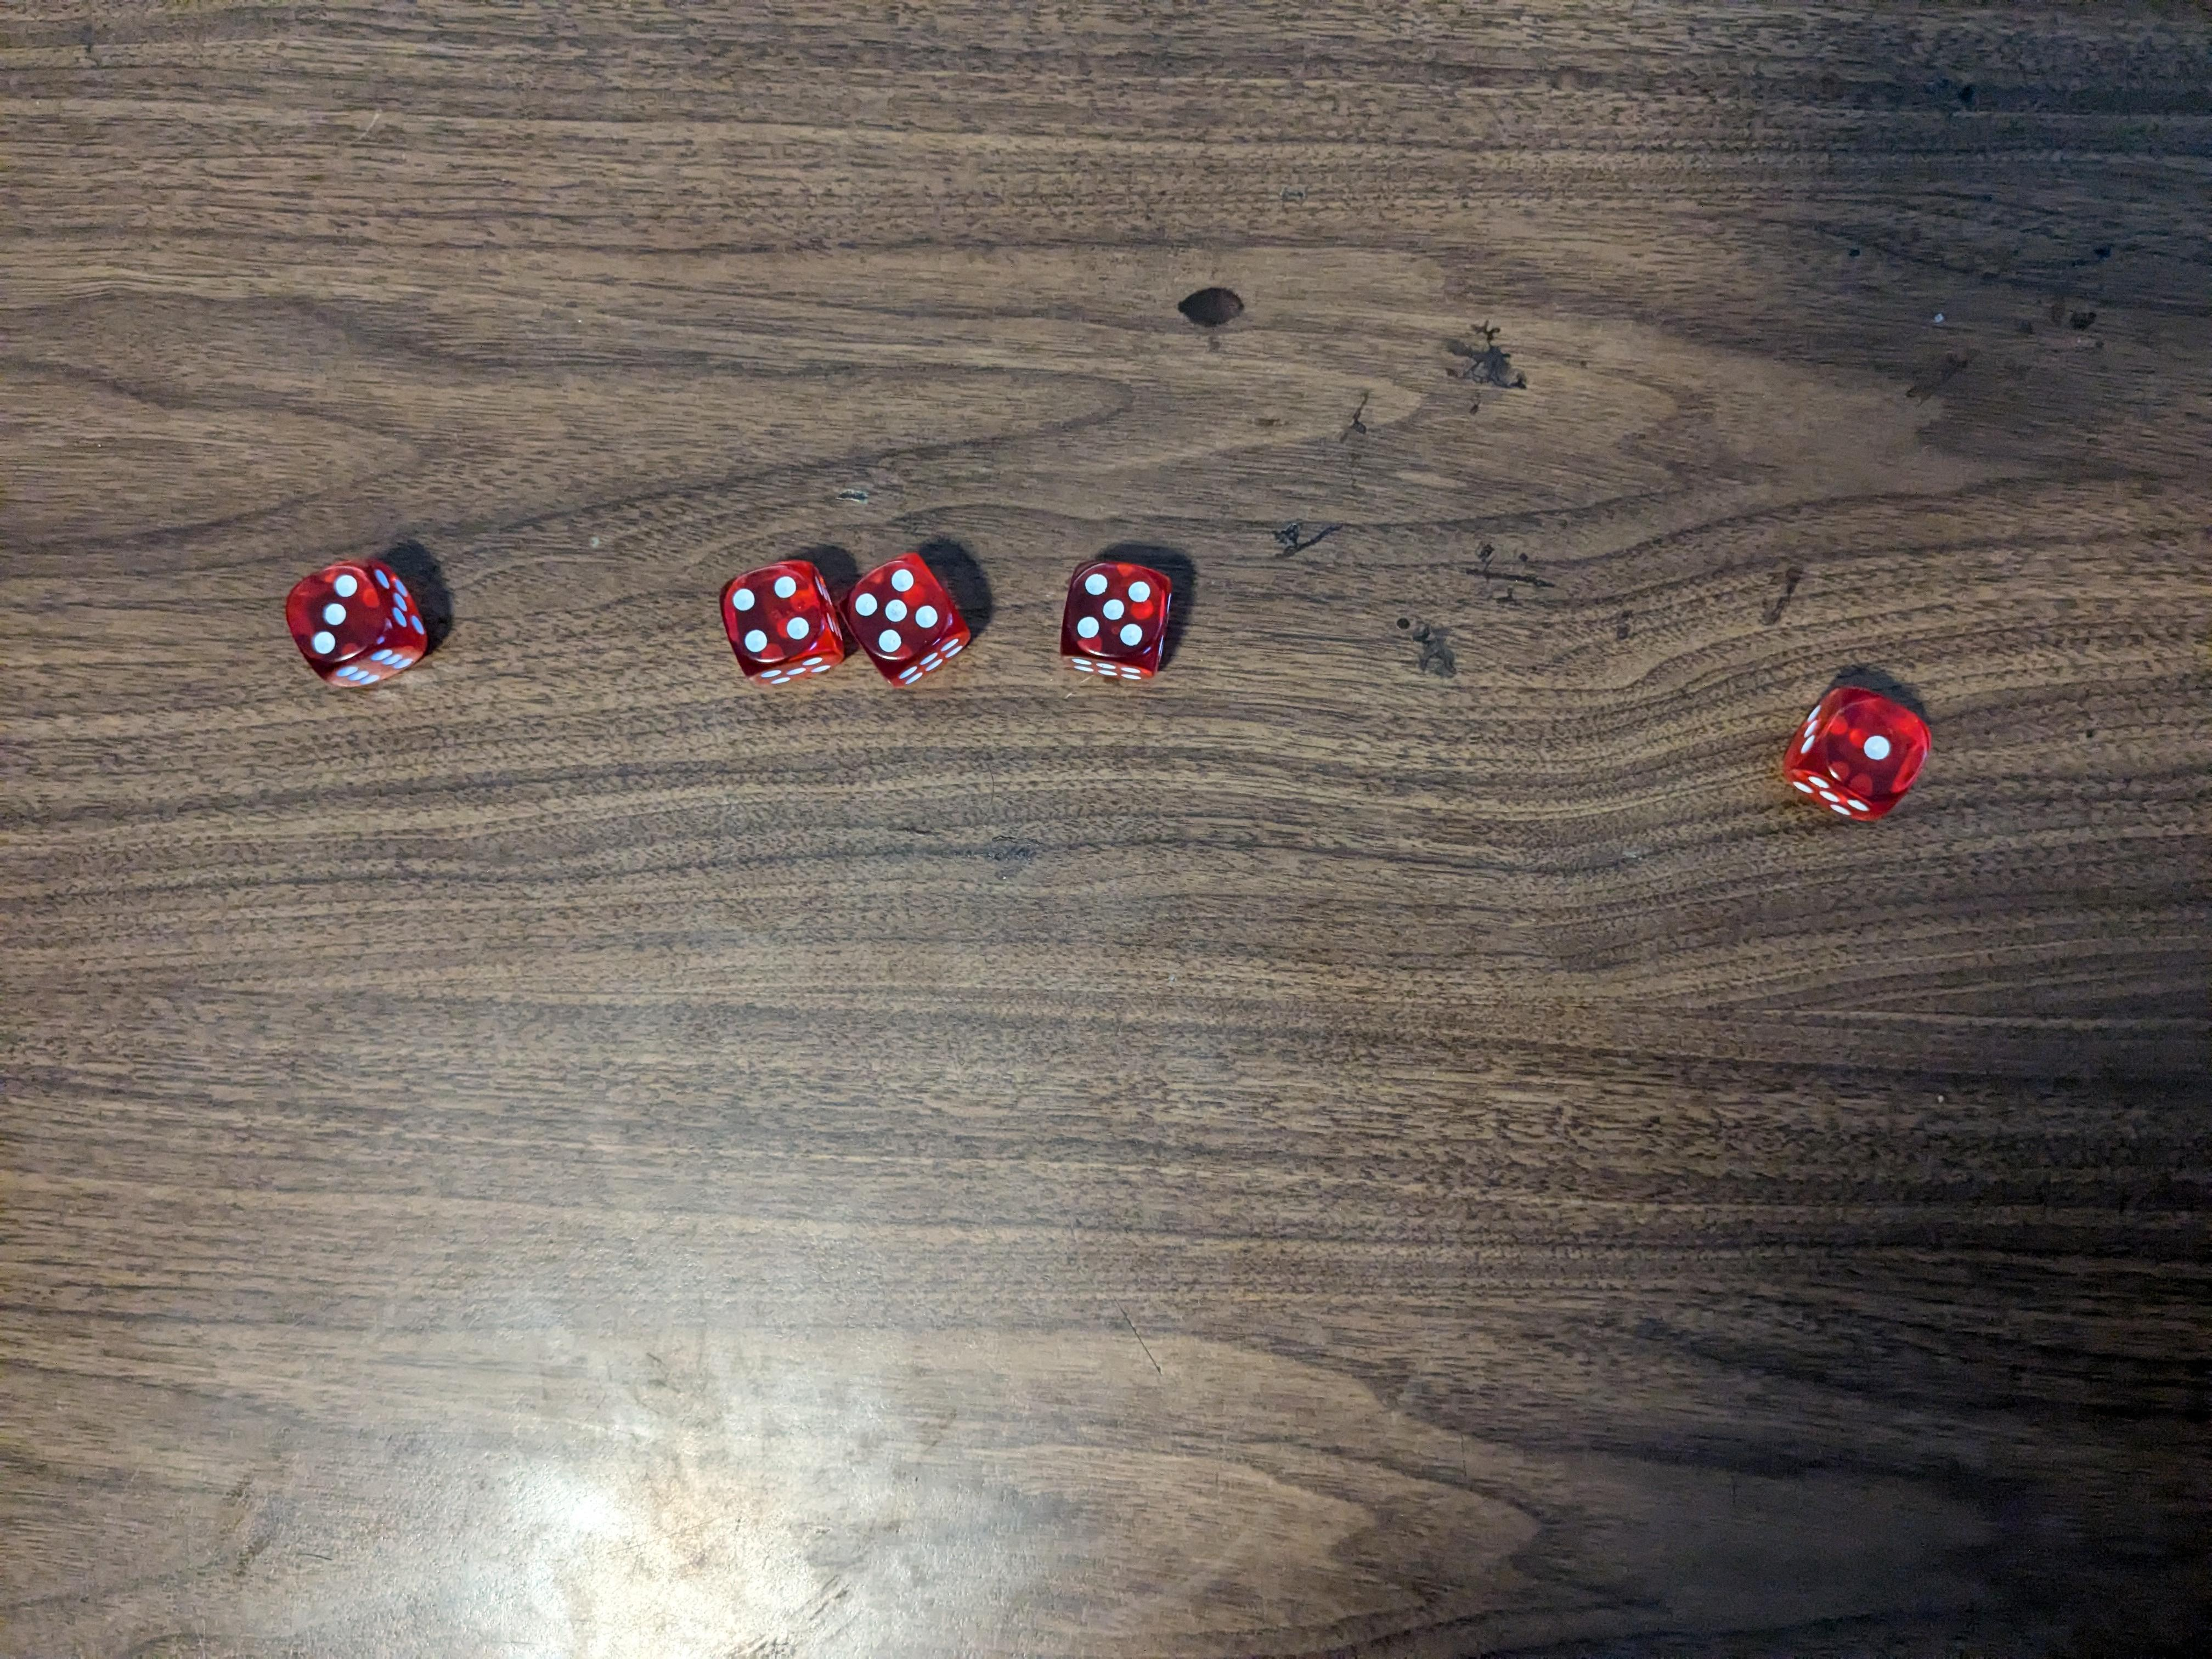five: (845, 554, 972, 695), (1059, 556, 1184, 694)
four: (714, 554, 852, 681)
one: (1775, 683, 1939, 828)
three: (273, 561, 434, 701)
